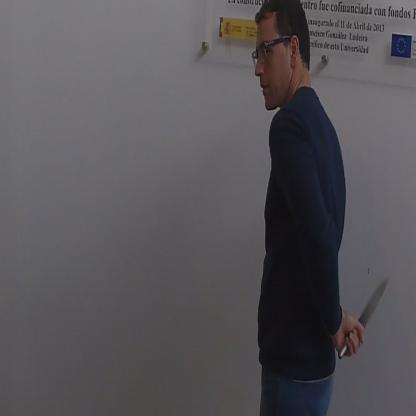knife: (336, 270, 394, 365)
